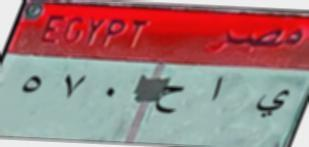0: (101, 83, 119, 104)
5: (18, 71, 45, 103)
7: (61, 68, 87, 107)
7aa: (155, 82, 185, 119)
alif: (207, 71, 228, 112)
yaa: (253, 88, 291, 125)
